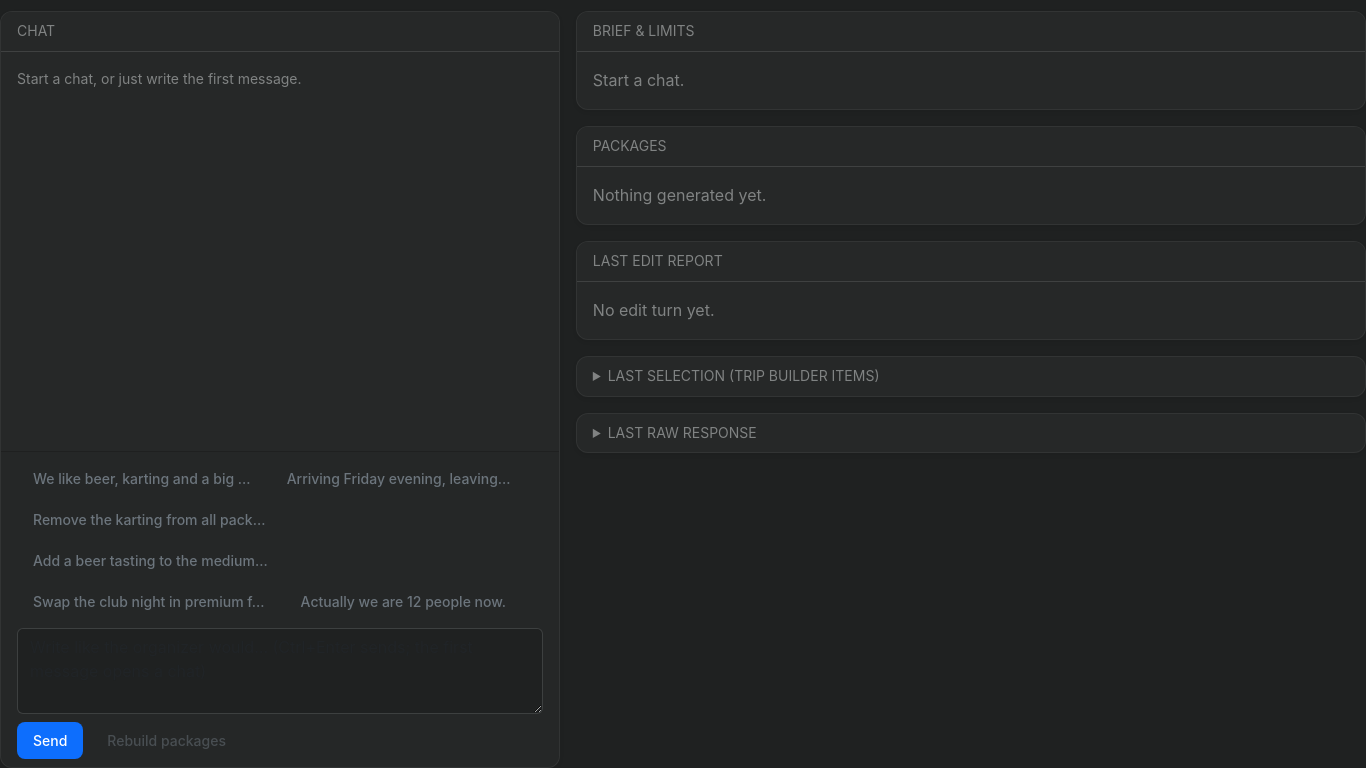
Test: the first message opens the chat by itself, then shows the replies, the edit report and the packages
The image size is (1366, 768).
(page scrolled)
Type "Remove hot air baloon and add some strip shows" into the text box labelled "message" at point(280, 671), box 17,628 -> 543,714
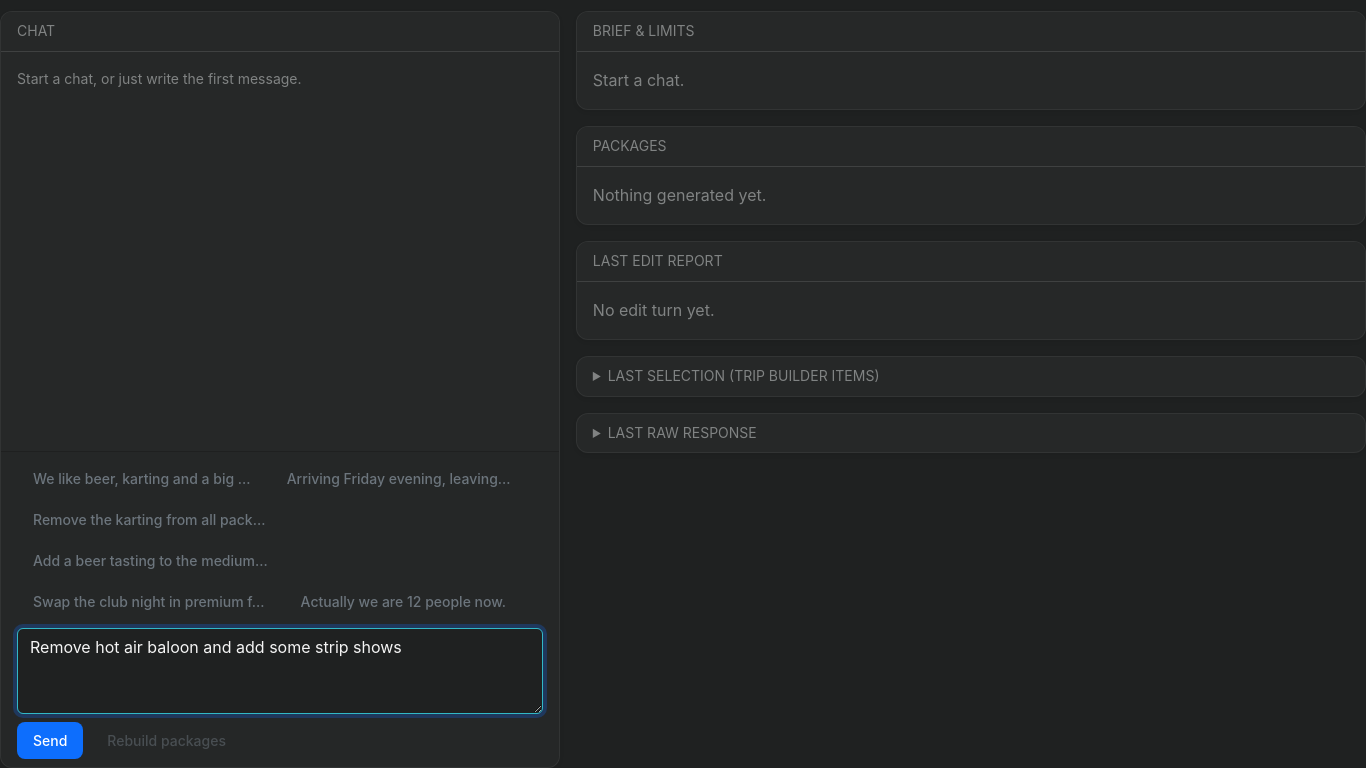
Click the button "Send" at point(50, 740), box 17,722 -> 83,759
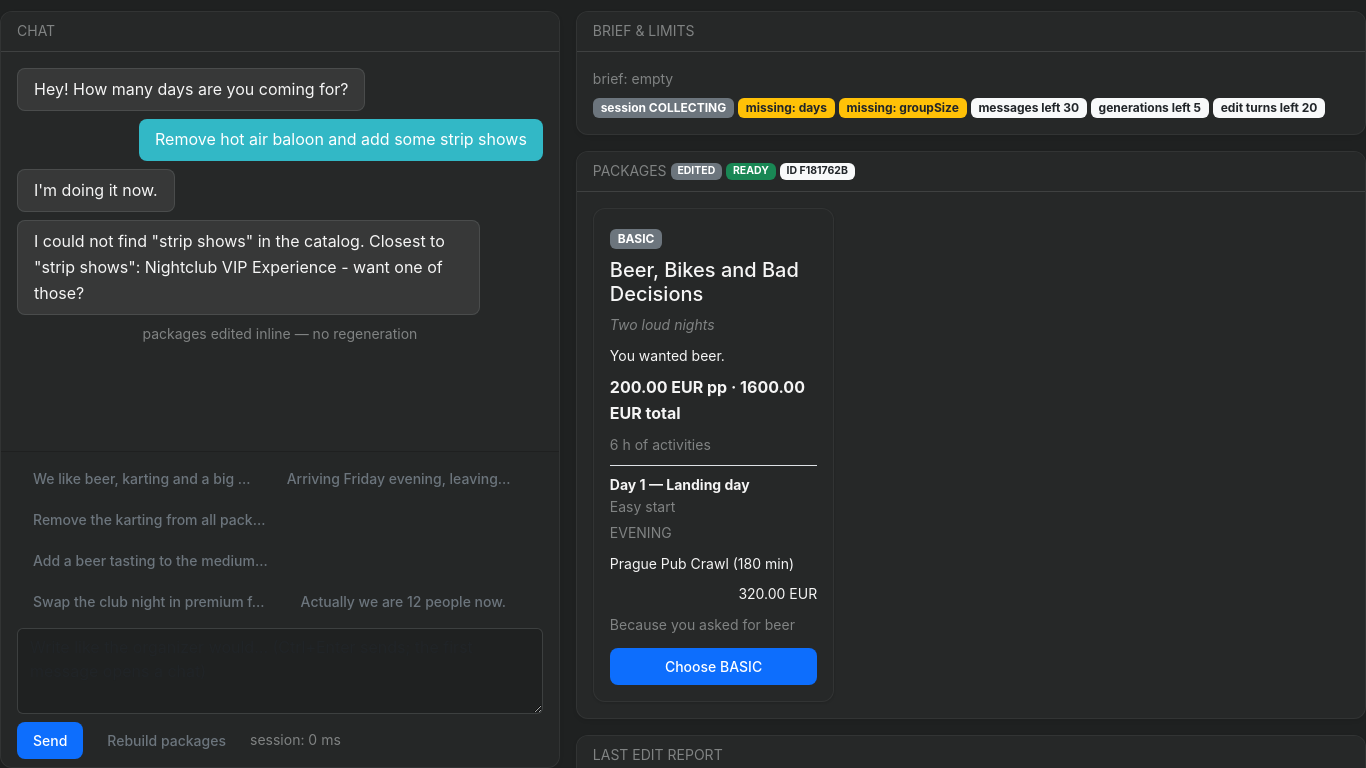
Check: the text "I'm doing it now." is shown, box 17,169 -> 174,212
Check: the heading "Beer, Bikes and Bad Decisions" is shown, box 610,258 -> 817,306
Check: the text "200.00 EUR pp · 1600.00 EUR total" is shown, box 610,375 -> 817,426
